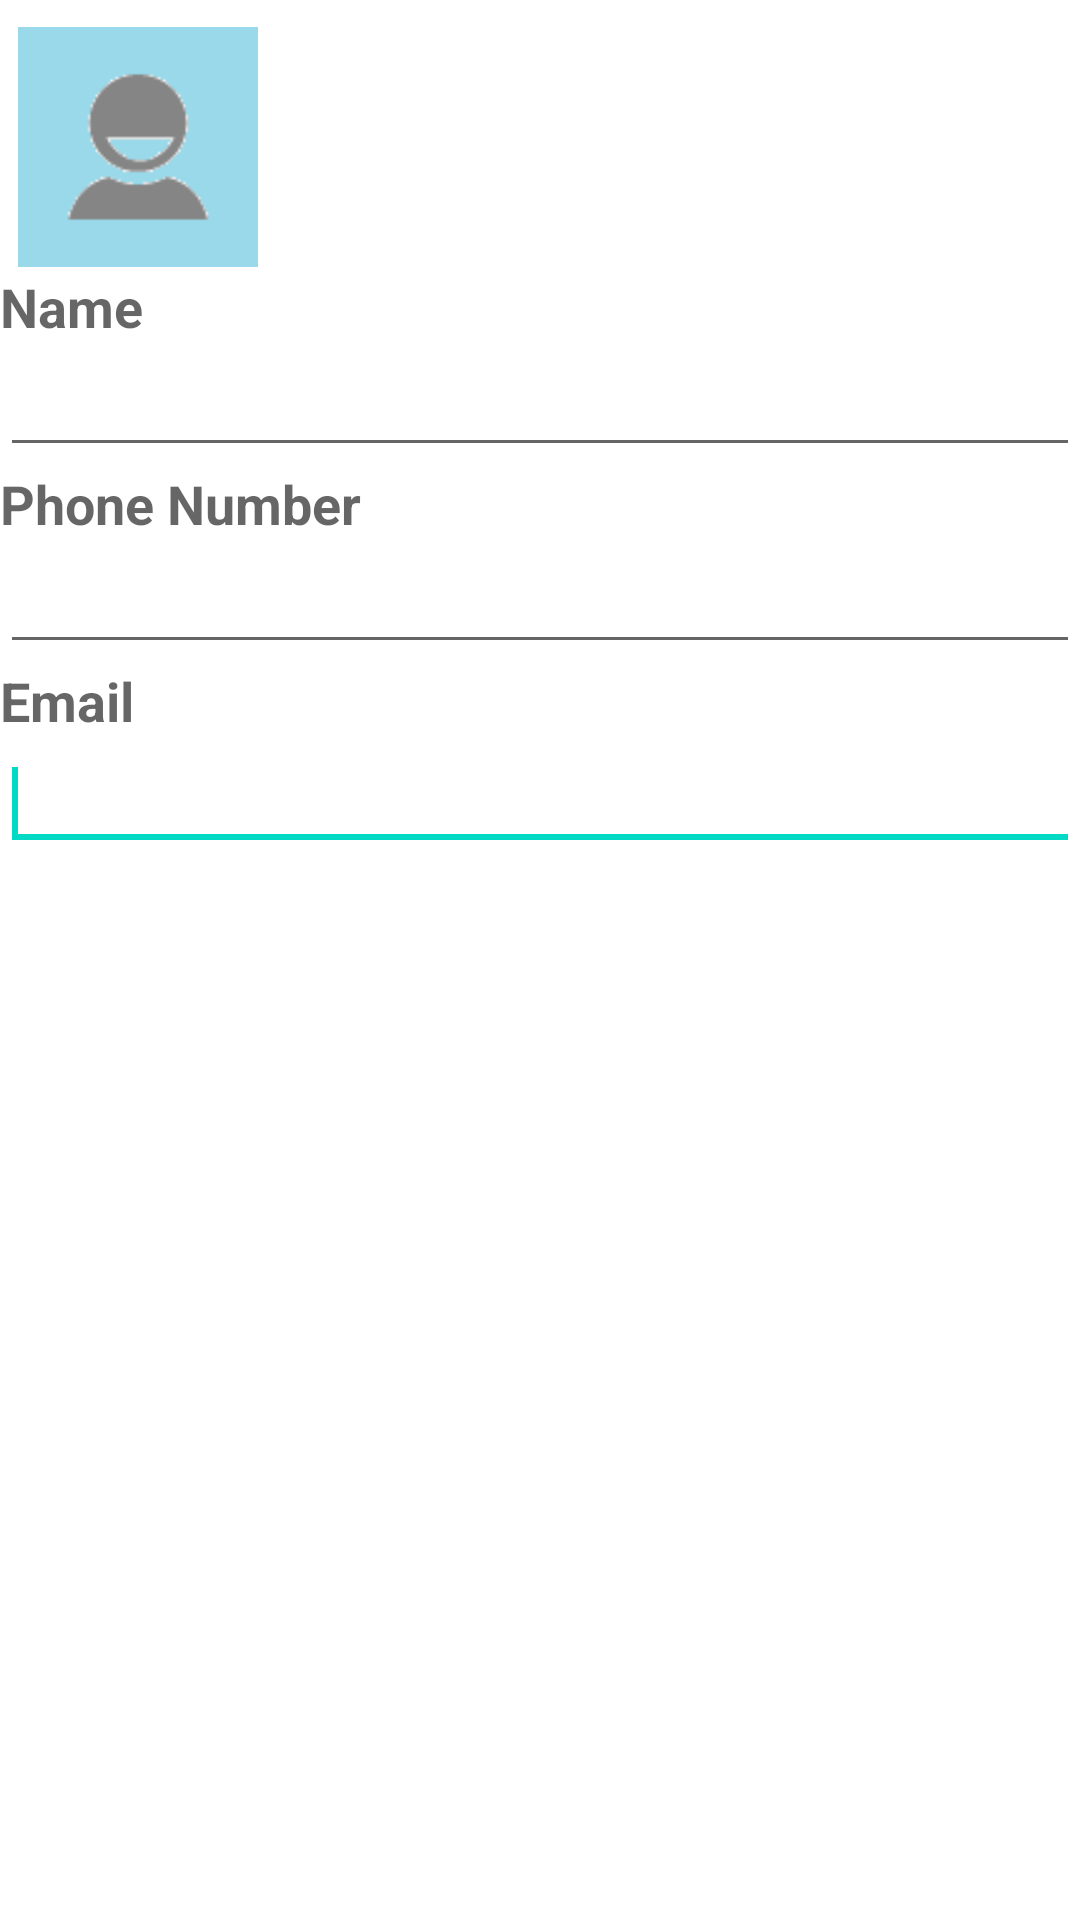

Locate icon controls on the screen. Image size 1080px x 1920px, boxes as bbox=[x1, y1, x2, y2].
person: bbox=[18, 27, 258, 267]
